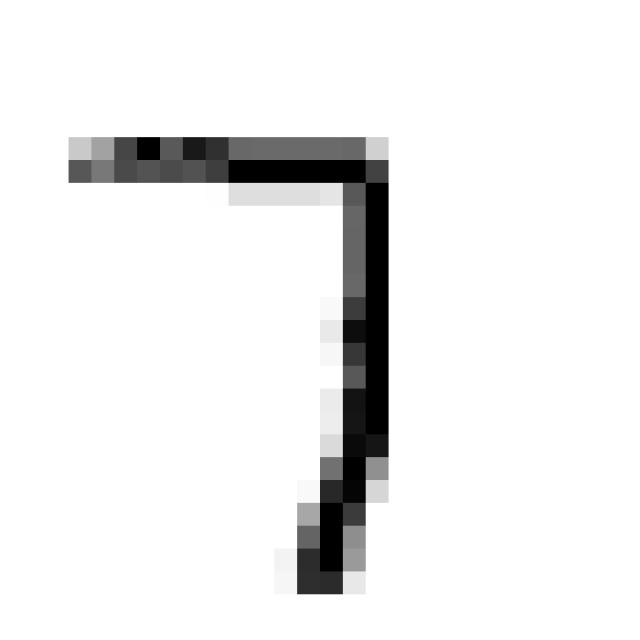6 -six-: (48, 107, 408, 614)
